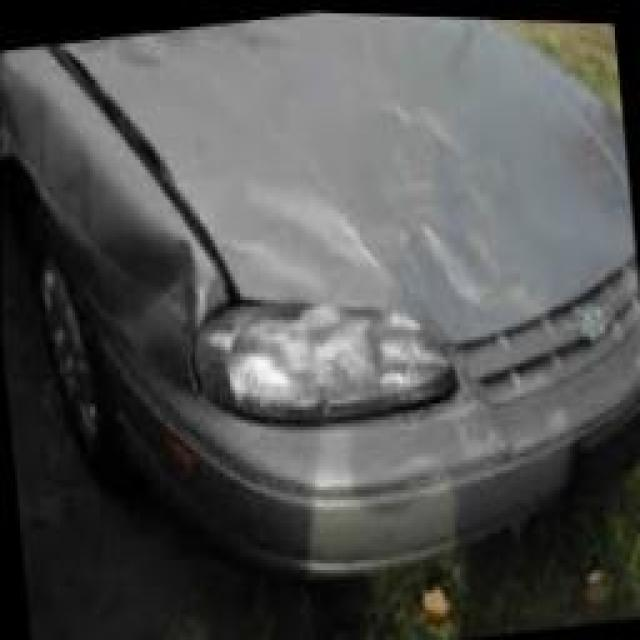Bonnet: (281, 90, 528, 326)
